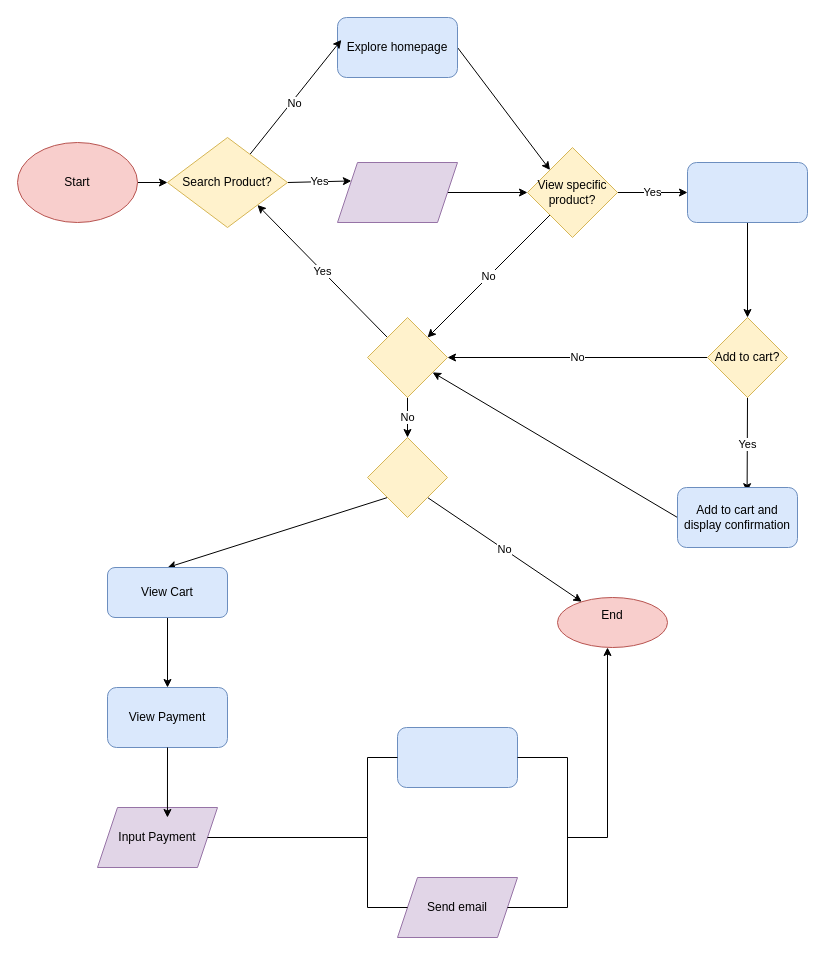
The diagram is 825 pixels wide and 955 high, and some of its shapes have lost their labels. The centre of each missing label's shape, as x and y in pixels:
"Checkout?" goes at point (407, 477).
"Continue shopping?" goes at point (407, 357).
"Order confirmation screen" goes at point (457, 757).
"Search Product" goes at point (397, 192).
"View Product Page" goes at point (747, 192).
